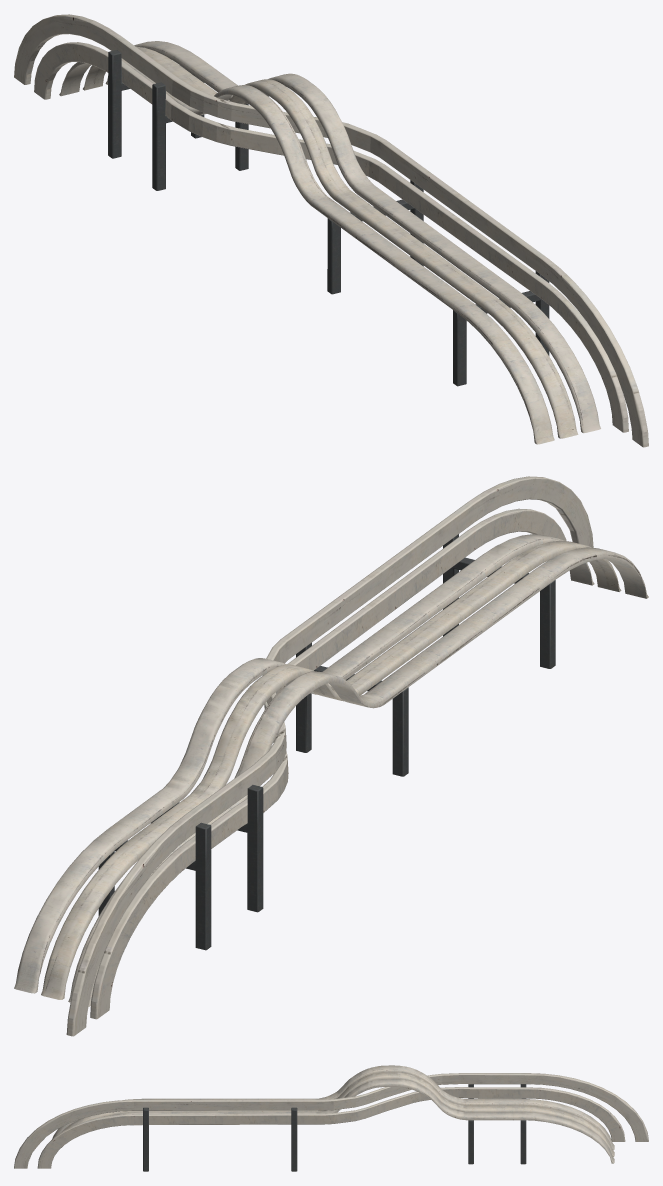
The model's file is bendy_bench_game_ready.glb.
3 renders of one model, top to bottom at view 1: azimuth 30°, elevation 25°; view 2: azimuth 150°, elevation 25°; view 3: azimuth 270°, elevation 25°, orthographic. The views are drawn at different scales.
Parts seen in each view (by area): view 1: Bench Bottom, Bench Back, Bench Supports; view 2: Bench Bottom, Bench Back, Bench Supports; view 3: Bench Back, Bench Bottom, Bench Supports.
Boxes of the visible parts, box(x1,y1,x2,y2) form: Bench Bottom: box(59, 41, 600, 444); Bench Back: box(14, 14, 648, 447); Bench Supports: box(108, 50, 549, 386); Bench Bottom: box(14, 534, 648, 1006); Bench Back: box(66, 476, 593, 1036); Bench Supports: box(98, 534, 555, 950); Bench Back: box(14, 1073, 648, 1168); Bench Bottom: box(52, 1065, 614, 1163); Bench Supports: box(143, 1084, 526, 1171).
Bounding box in the file's own units: 0.8135 × 0.8958 × 6.43.
2 materials, 2 textured.
